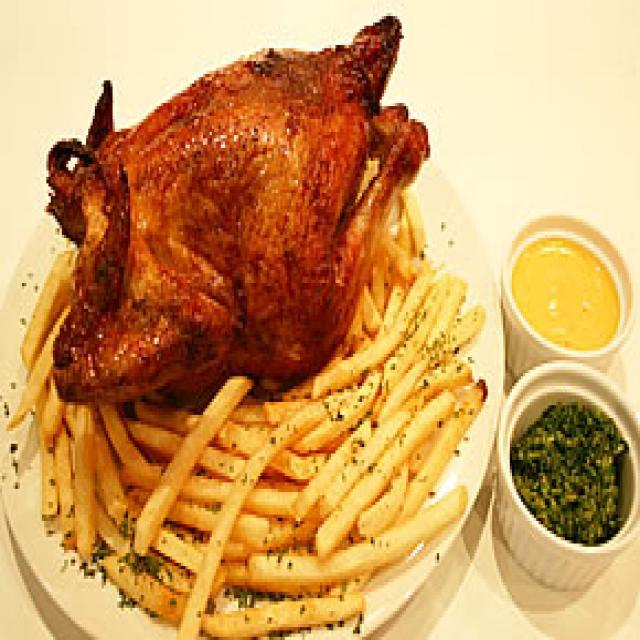Chicken roast: (33, 36, 406, 380)
French fries: (22, 331, 474, 611)
